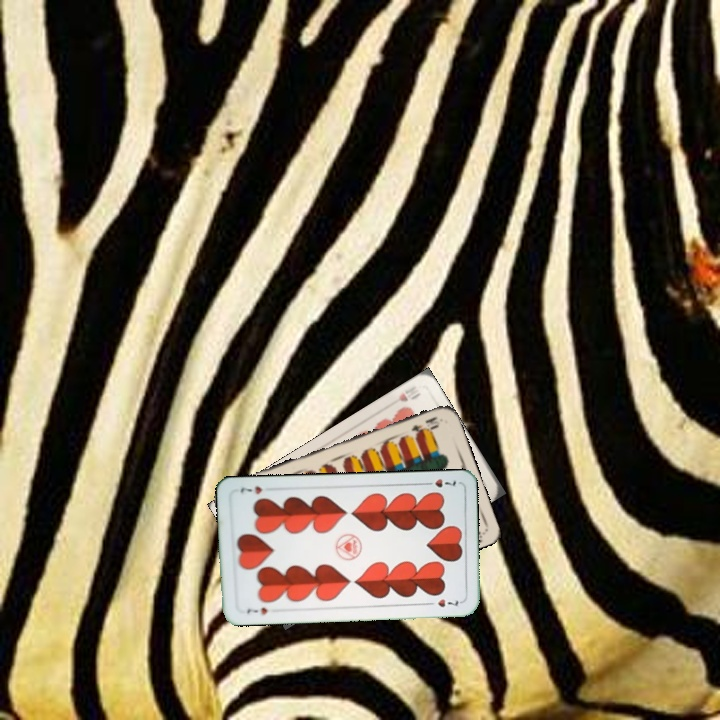E10: (407, 412, 442, 438)
H10: (385, 382, 423, 409)
H7: (420, 475, 458, 490), (243, 603, 270, 617)
